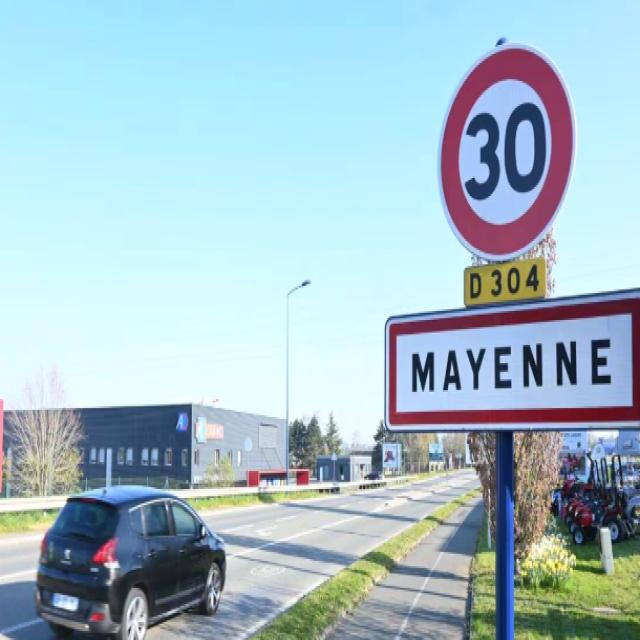speed_30: (438, 41, 578, 260)
